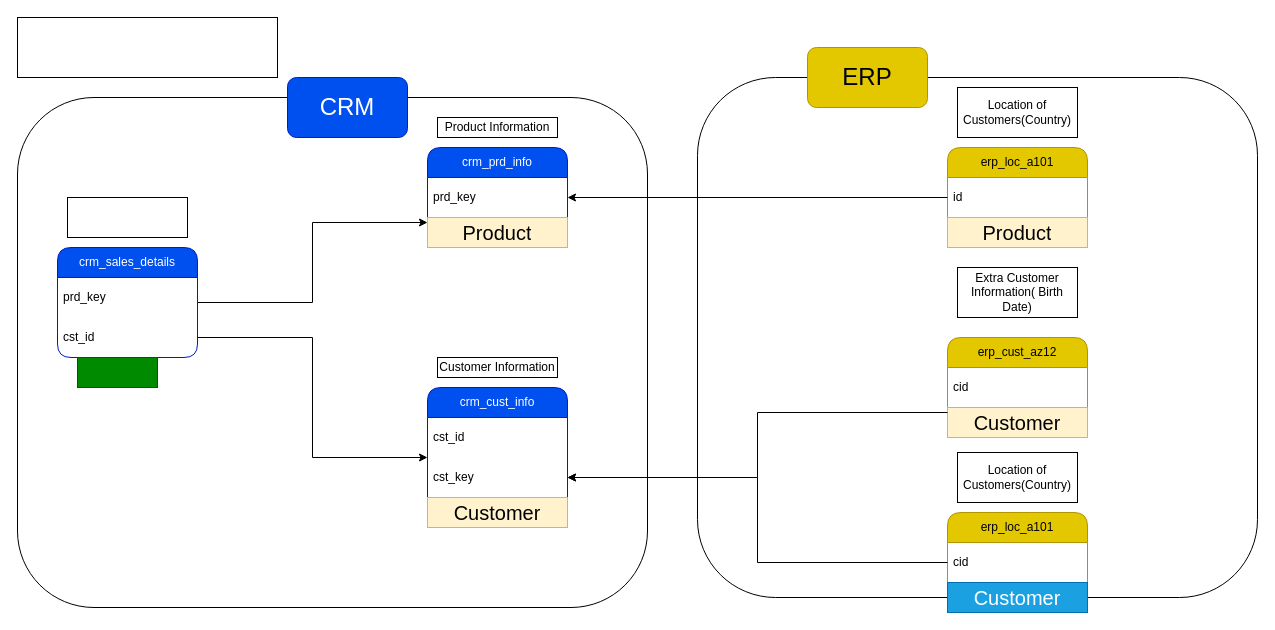
The diagram is 1275 pixels wide and 630 high, and some of its shapes have lost their labels. The shapes that lost their labels are listed below. From the top down, each one's centre as x and y in pixels, then its label:
At [147,47]: "Integration Model".
At [127,217]: "Transacational details about Sales and Orders".
At [117,372]: "Sales".
